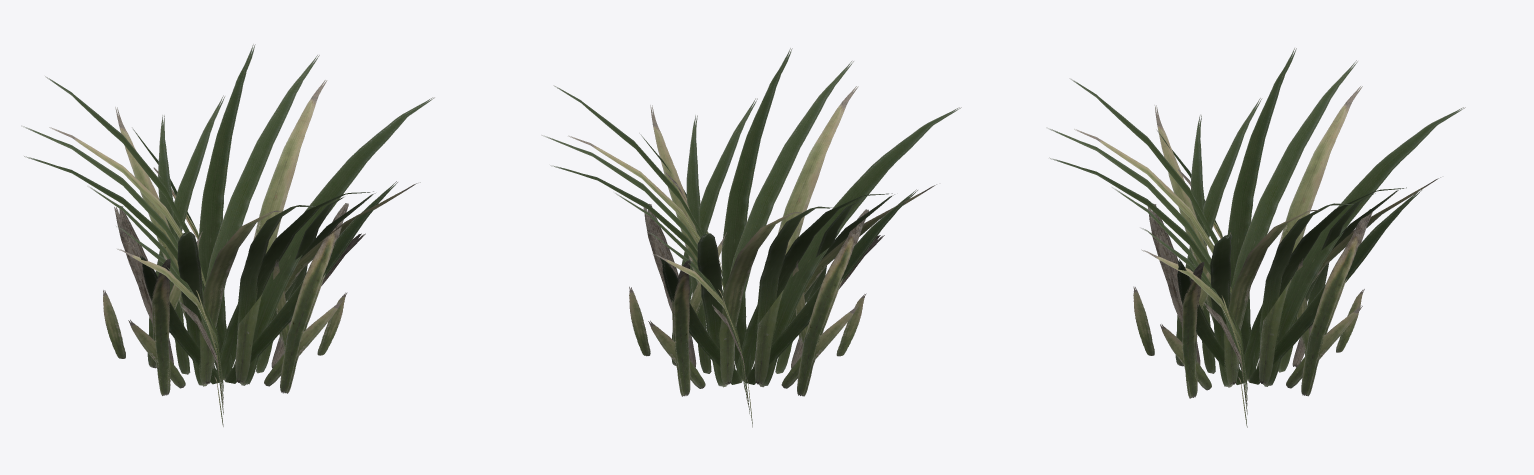
The model's file is SM_Grass02.FBX.
3 views of the same model, side by side, from view 1: azimuth 30°, elevation 25°; view 2: azimuth 150°, elevation 25°; view 3: azimuth 270°, elevation 25° (orthographic).
Visible parts, largest first — view 1: SM_Grass02; view 2: SM_Grass02; view 3: SM_Grass02.
Part boxes in pixels (x1,y1,x2,y2): SM_Grass02: (21, 44, 434, 426); SM_Grass02: (541, 48, 961, 427); SM_Grass02: (1046, 48, 1465, 427).
Bounding box in the file's own units: 79.6 × 69.25 × 40.19.
